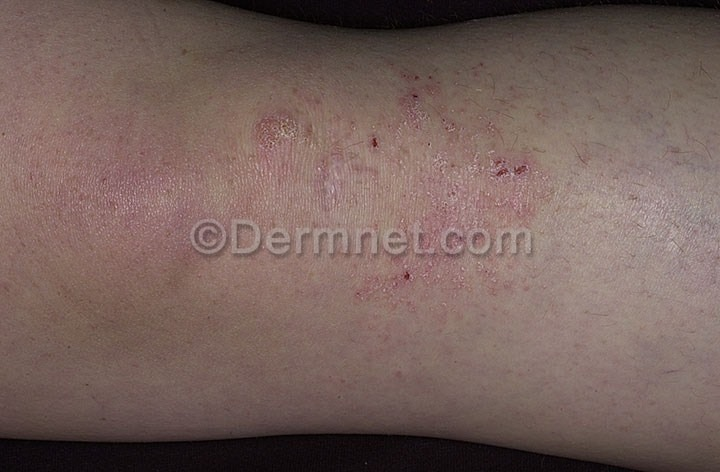Eczema: (38, 31, 631, 348)
